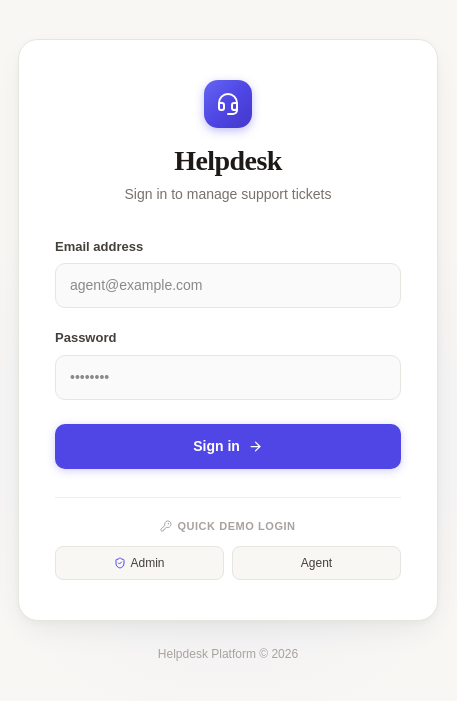
Test: Login Component › shows validation errors for empty form submission
What coordinates should you click on to do the following:
click the button "Sign in"
I would click on:
 (228, 446)
Its box is [55,424,401,468].
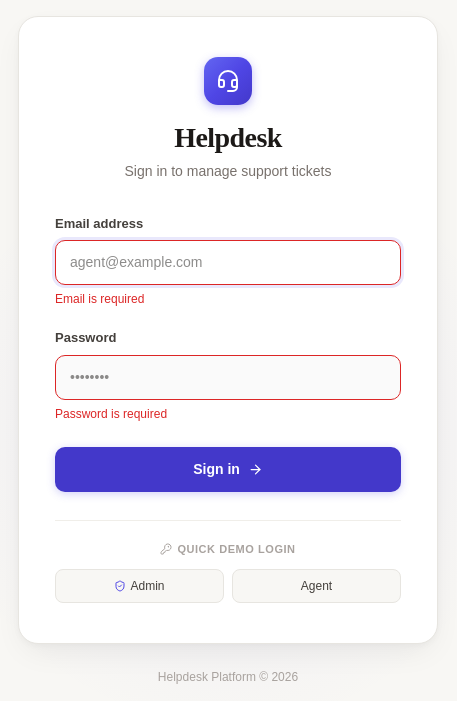
Check: the text "Email is required" is shown, box [55,292,144,306]
Check: the text "Password is required" is shown, box [55,406,167,420]
